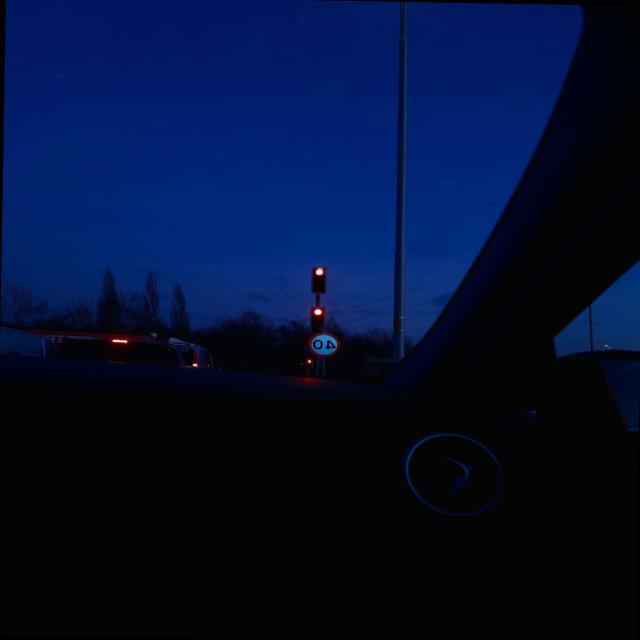on: (240, 218, 394, 394)
